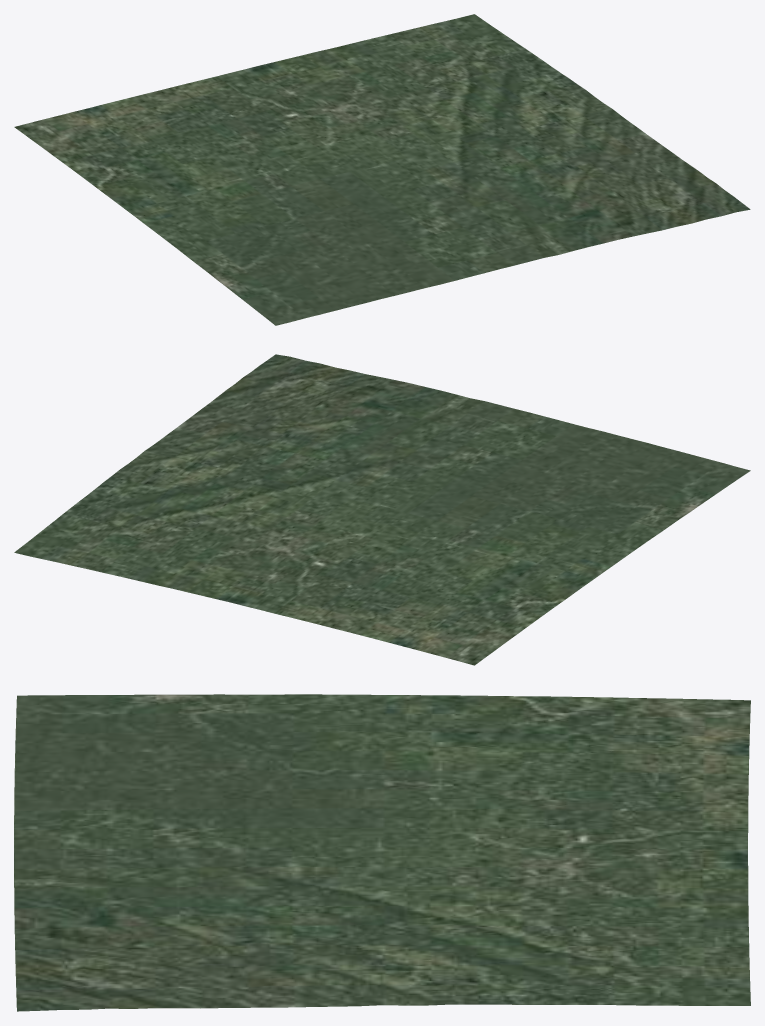
The picture shows the model from 3 angles, top to bottom: view 1: azimuth 30°, elevation 25°; view 2: azimuth 150°, elevation 25°; view 3: azimuth 270°, elevation 25°; orthographic projection. The views are drawn at different scales.
Size of the model in its own units: 244232 by 2656 by 240472.
Materials: 1 (1 with a texture image).
